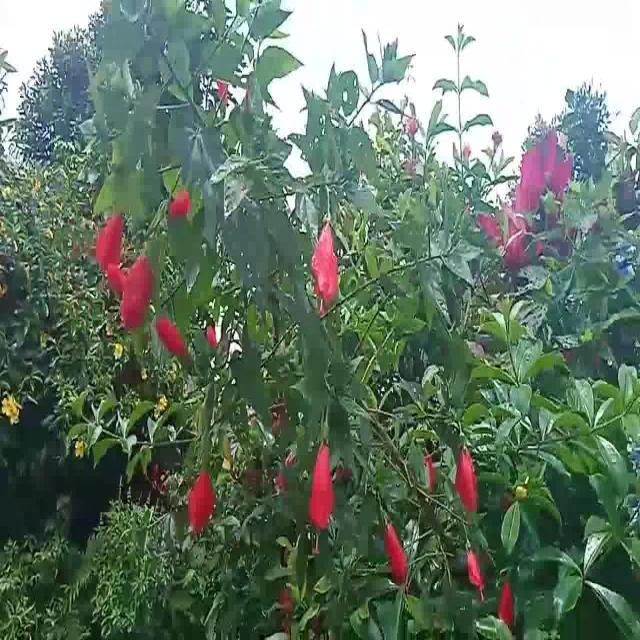Flower: (309, 432, 339, 559), (311, 215, 339, 309), (124, 246, 152, 334), (379, 511, 413, 582), (455, 437, 479, 519), (188, 466, 214, 535), (96, 208, 124, 270), (155, 318, 191, 366), (463, 541, 487, 598), (496, 574, 516, 628), (170, 186, 188, 220)
